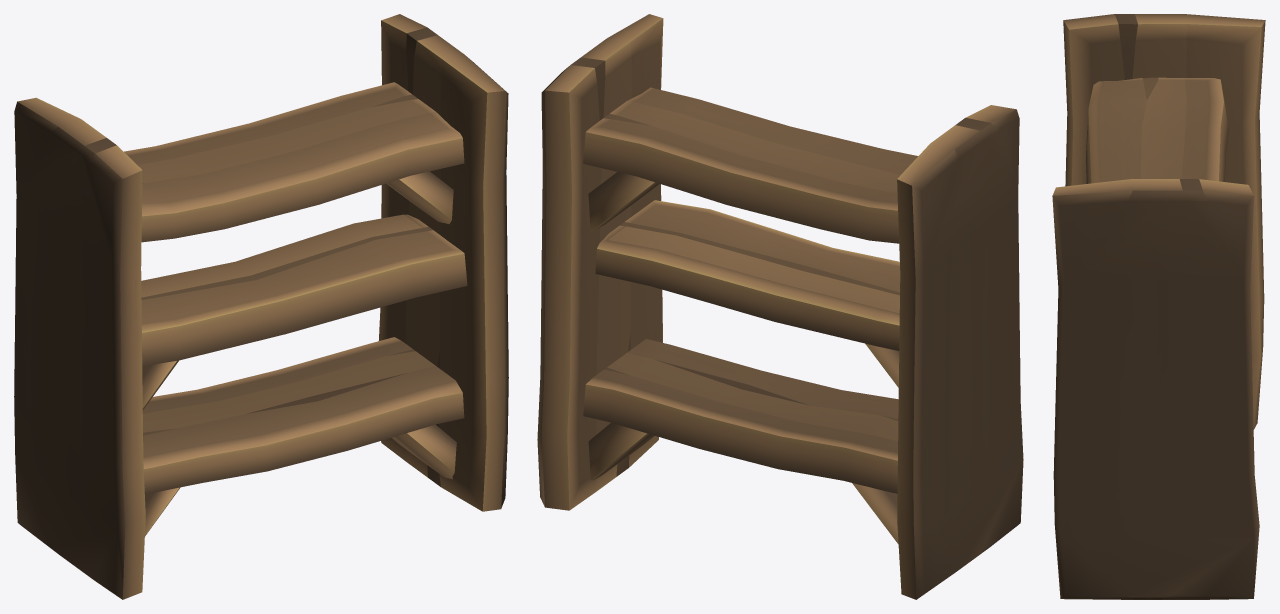
The model's file is tavern_wooden_shelve.fbx.
3 views of the same model, side by side, from view 1: azimuth 30°, elevation 25°; view 2: azimuth 150°, elevation 25°; view 3: azimuth 270°, elevation 25° (orthographic). The views are drawn at different scales.
Parts seen in each view (by area): view 1: tavern_wooden_shelve_LOD0; view 2: tavern_wooden_shelve_LOD0; view 3: tavern_wooden_shelve_LOD0.
Part boxes in pixels (box(x1,y1,x2,y2)): tavern_wooden_shelve_LOD0: box(14, 14, 508, 599); tavern_wooden_shelve_LOD0: box(537, 14, 1023, 599); tavern_wooden_shelve_LOD0: box(1052, 14, 1265, 599).
Size of what is drawn, in the model's own units: 204 by 213 by 100.
